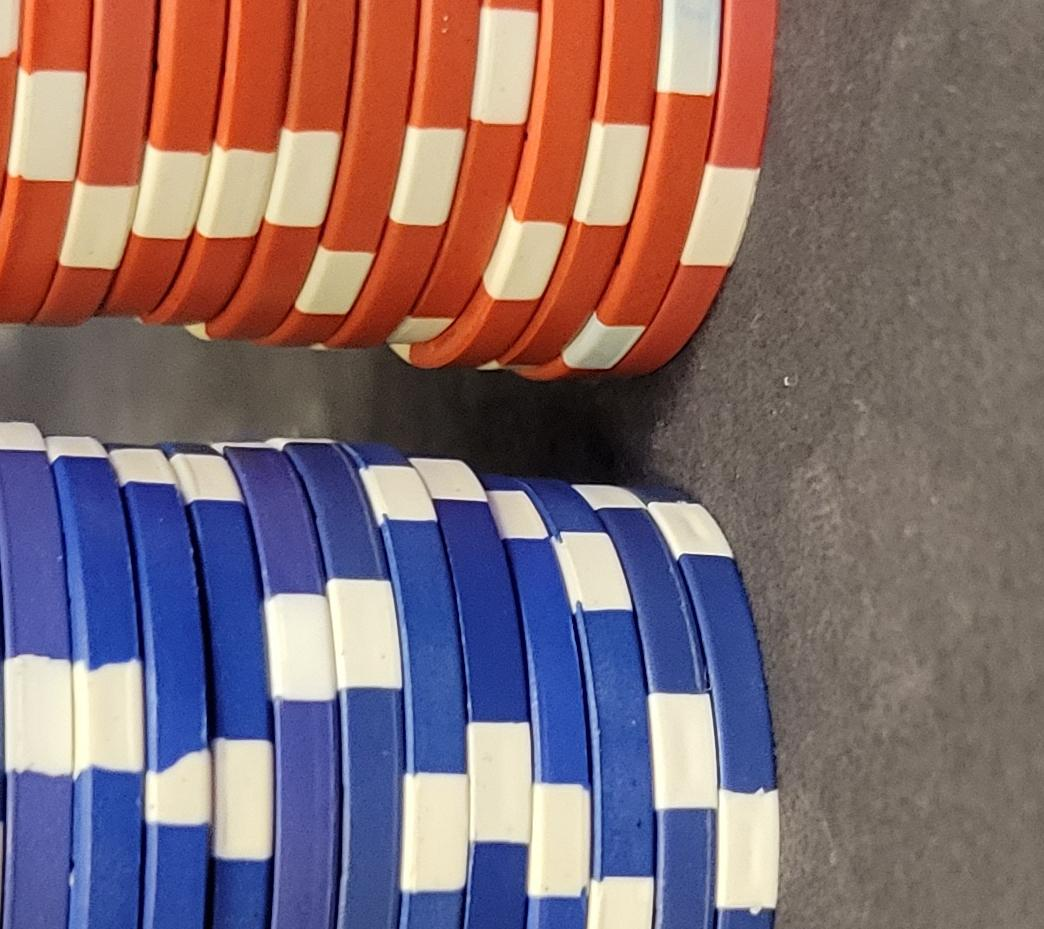Chip: (1, 264, 431, 929)
